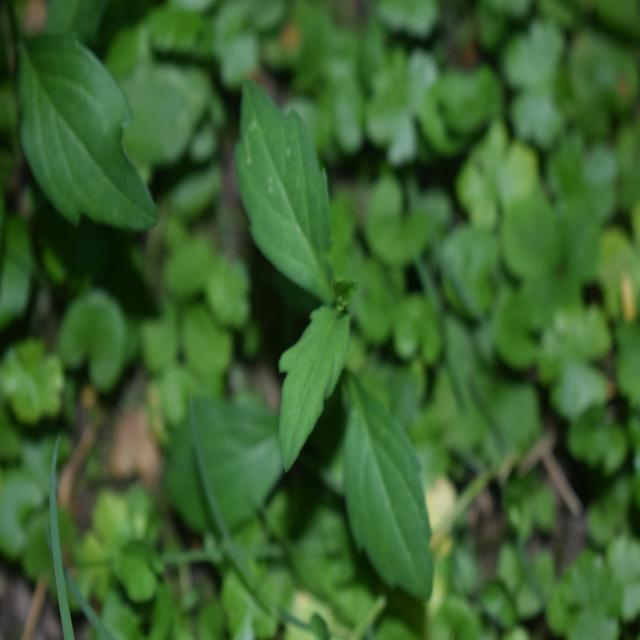Indian aster: (218, 97, 444, 578)
